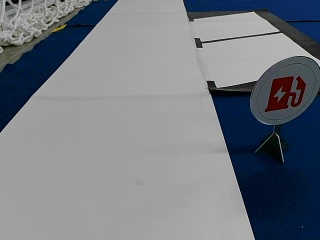battery: (249, 56, 316, 124)
